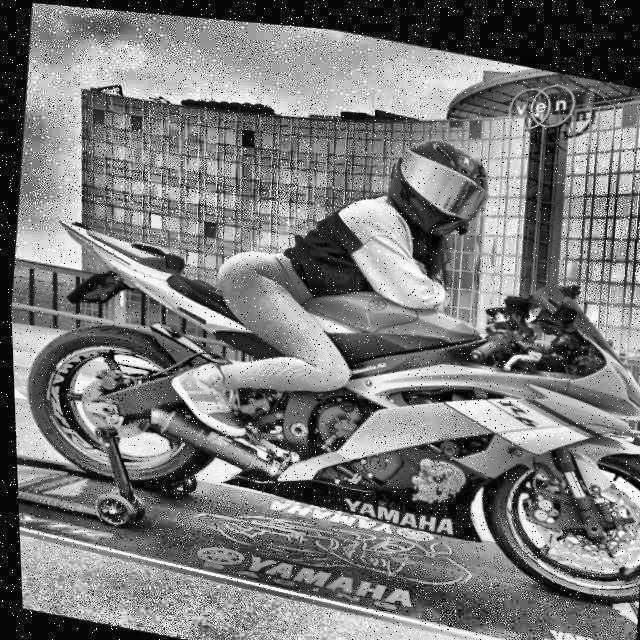Helmet: (378, 119, 498, 244)
